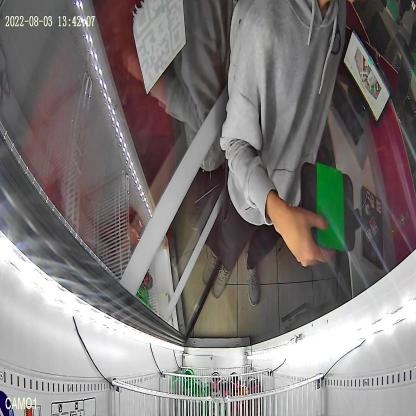red: (300, 162, 356, 252)
